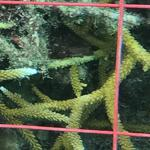alive: (5, 4, 147, 146)
